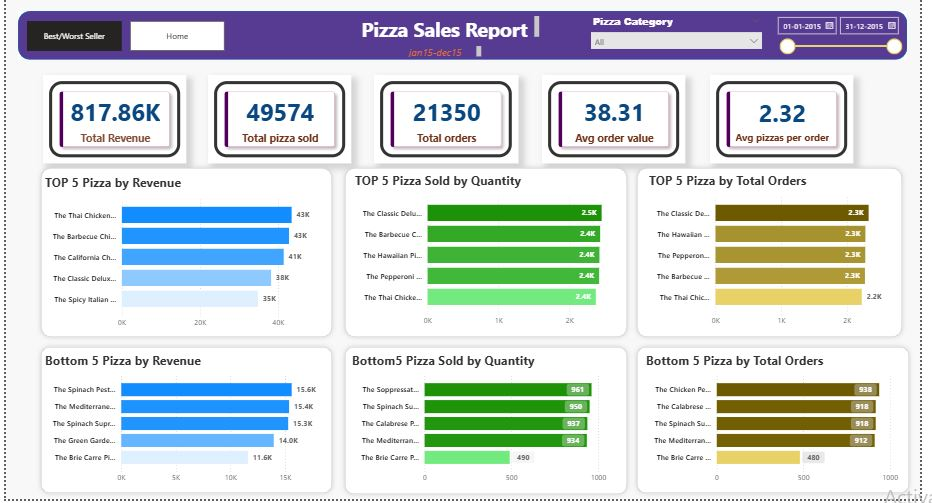

The page's visual inventory and layout, read from the dashboard file:
{"tool":"powerbi","page":{"name":"Best/Worst Seller","canvas":[1500,820],"ordinal":1},"visuals":[{"type":"cardVisual","fields":{"Data":["pizza_sales.Total Revenue"]},"box":[60,125,235,145],"z":0},{"type":"cardVisual","fields":{"Data":["pizza_sales.Total pizza sold"]},"box":[331.7,125,235,145],"z":1000},{"type":"cardVisual","fields":{"Data":["pizza_sales.Total orders","pizza_sales.Total orders"]},"box":[603.3,125,236.7,145],"z":2000},{"type":"cardVisual","fields":{"Data":["pizza_sales.Avg order value"]},"box":[878.3,125,235,145],"z":3000},{"type":"cardVisual","fields":{"Data":["pizza_sales.Avg pizzas per order"]},"box":[1155,125,235,145],"z":4000},{"type":"shape","box":[20,20,1458.3,80],"z":5000},{"type":"textbox","box":[566.7,23.3,311.7,48.3],"z":6000},{"type":"textbox","box":[631.7,71.7,153.3,28.3],"z":7000},{"type":"shape","box":[49.2,269,493.6,293.6],"z":8000},{"type":"slicer","fields":{"Values":["pizza_sales.pizza_category","pizza_sales.pizza_category"]},"box":[949.6,19.7,300.1,80.4],"z":24000},{"type":"slicer","fields":{"Values":["pizza_sales.order_date"]},"box":[1253,19.7,224.7,80.4],"z":25000},{"type":"shape","box":[547.8,269,478.9,293.6],"z":25001},{"type":"shape","box":[49.2,562.5,493.6,255.8],"z":25002},{"type":"shape","box":[547.8,562.5,478.9,257.5],"z":25003},{"type":"shape","box":[1026.6,269,451,293.6],"z":25004},{"type":"shape","box":[1026.6,562.5,462.5,255.8],"z":25005},{"type":"barChart","title":"TOP 5 Pizza by Revenue","fields":{"Category":["pizza_sales.pizza_name"],"Y":["pizza_sales.Total Revenue"]},"box":[59.1,287.4,470.5,261.8],"z":25006},{"type":"barChart","title":"Bottom 5 Pizza by Revenue","fields":{"Category":["pizza_sales.pizza_name"],"Y":["pizza_sales.Total Revenue"]},"box":[59.1,578.7,468.5,224.4],"z":25007},{"type":"barChart","title":"TOP 5 Pizza Sold by Quantity","fields":{"Category":["pizza_sales.pizza_name"],"Y":["pizza_sales.Total pizza sold"]},"box":[566.9,283.5,442.9,261.8],"z":25008},{"type":"barChart","title":"Bottom5 Pizza Sold by Quantity","fields":{"Category":["pizza_sales.pizza_name"],"Y":["pizza_sales.Total pizza sold"]},"box":[563,578.7,442.9,224.4],"z":25009},{"type":"barChart","title":"TOP 5 Pizza by Total Orders","fields":{"Category":["pizza_sales.pizza_name"],"Y":["pizza_sales.Total orders"]},"box":[1049.2,283.5,403.5,261.8],"z":25010},{"type":"barChart","title":"Bottom 5 Pizza by Total Orders","fields":{"Category":["pizza_sales.pizza_name"],"Y":["pizza_sales.Total orders"]},"box":[1045.3,578.7,433.1,224.4],"z":25011},{"type":"pageNavigator","box":[34.4,36.1,155.8,49.2],"z":25012},{"type":"pageNavigator","box":[203.4,36.1,155.8,49.2],"z":25013}]}

Visuals, with their boxes in screenshot pixels (x1, y1, x2, y2), scaled from the page's 1500x820 canvas onto the 932x503 screenshot:
cardVisual - pizza_sales.Total Revenue: <bbox>37, 77, 183, 166</bbox>
cardVisual - pizza_sales.Total pizza sold: <bbox>206, 77, 352, 166</bbox>
cardVisual - pizza_sales.Total orders x pizza_sales.Total orders: <bbox>375, 77, 522, 166</bbox>
cardVisual - pizza_sales.Avg order value: <bbox>546, 77, 692, 166</bbox>
cardVisual - pizza_sales.Avg pizzas per order: <bbox>718, 77, 864, 166</bbox>
shape: <bbox>12, 12, 919, 61</bbox>
textbox: <bbox>352, 14, 546, 44</bbox>
textbox: <bbox>392, 44, 488, 61</bbox>
shape: <bbox>31, 165, 337, 345</bbox>
slicer - pizza_sales.pizza_category x pizza_sales.pizza_category: <bbox>590, 12, 776, 61</bbox>
slicer - pizza_sales.order_date: <bbox>779, 12, 918, 61</bbox>
shape: <bbox>340, 165, 638, 345</bbox>
shape: <bbox>31, 345, 337, 502</bbox>
shape: <bbox>340, 345, 638, 502</bbox>
shape: <bbox>638, 165, 918, 345</bbox>
shape: <bbox>638, 345, 925, 502</bbox>
"TOP 5 Pizza by Revenue" barChart: <bbox>37, 176, 329, 337</bbox>
"Bottom 5 Pizza by Revenue" barChart: <bbox>37, 355, 328, 493</bbox>
"TOP 5 Pizza Sold by Quantity" barChart: <bbox>352, 174, 627, 334</bbox>
"Bottom5 Pizza Sold by Quantity" barChart: <bbox>350, 355, 625, 493</bbox>
"TOP 5 Pizza by Total Orders" barChart: <bbox>652, 174, 903, 334</bbox>
"Bottom 5 Pizza by Total Orders" barChart: <bbox>649, 355, 919, 493</bbox>
pageNavigator: <bbox>21, 22, 118, 52</bbox>
pageNavigator: <bbox>126, 22, 223, 52</bbox>
